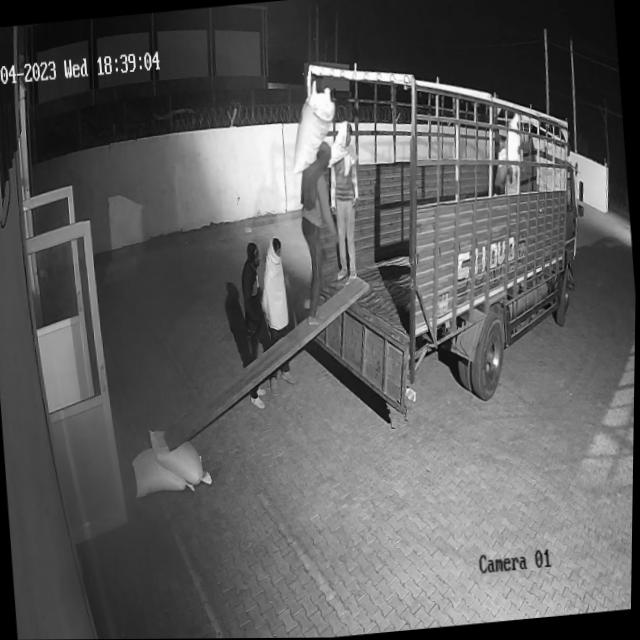sack: (287, 79, 342, 174), (148, 421, 214, 490), (132, 444, 197, 498)
